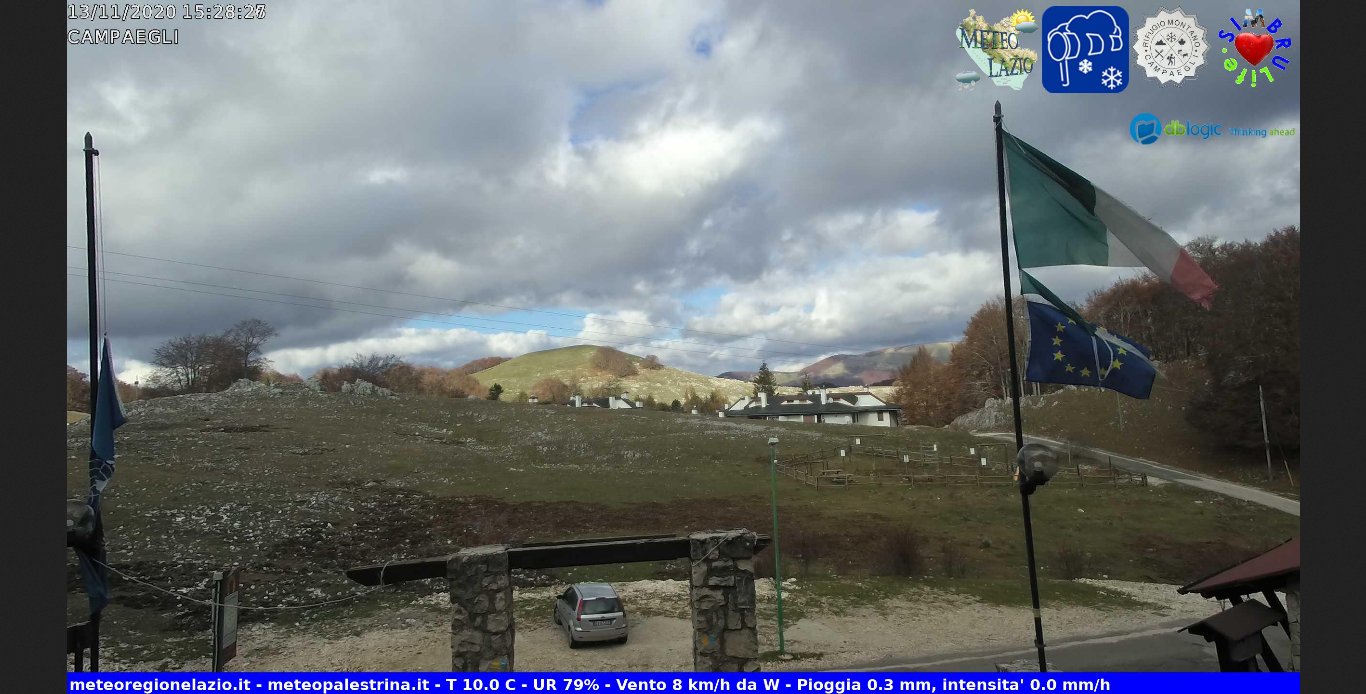maybe: (986, 107, 1234, 312), (997, 295, 1171, 406)
